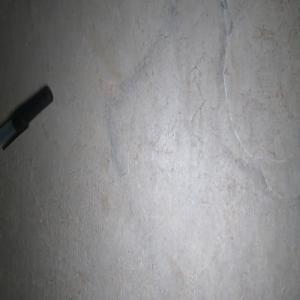Pen: (0, 85, 53, 150)
